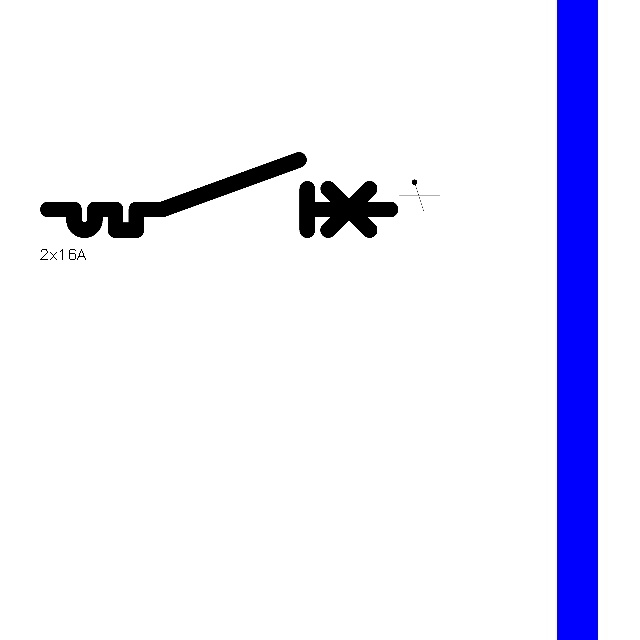interruptor_termomagnetico: (39, 151, 399, 239)
